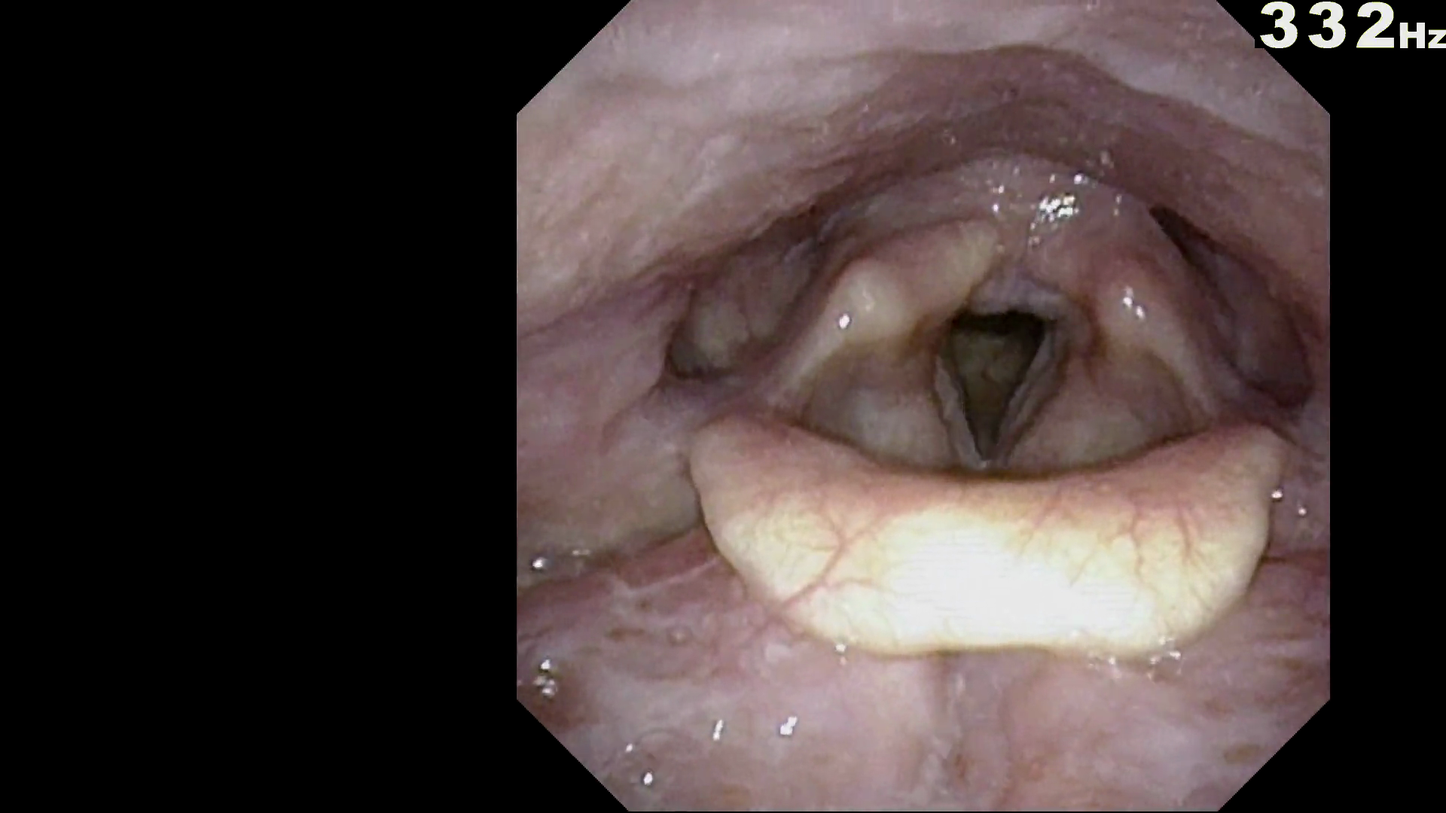epiglottis: (676, 401, 1295, 661)
trachea: (909, 285, 1089, 495)
